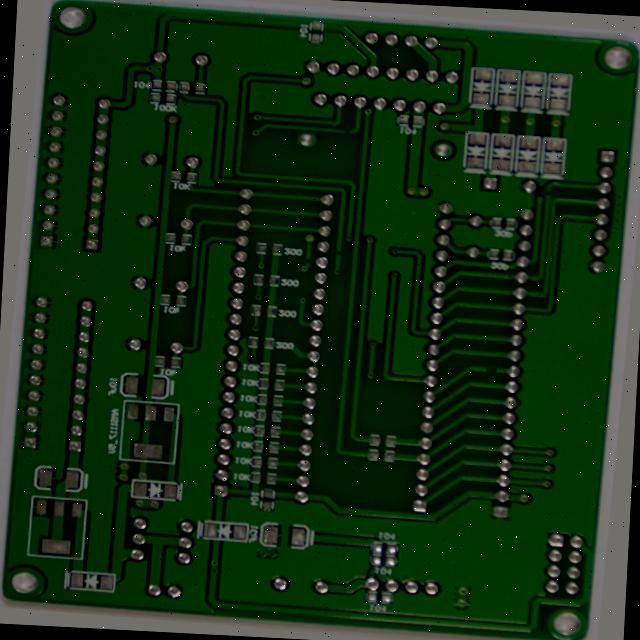open_circuit: (491, 360, 511, 375), (330, 120, 346, 132), (545, 177, 558, 191), (330, 246, 342, 256), (298, 255, 310, 265)
